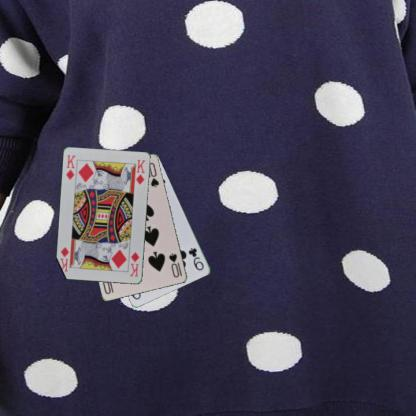10s: (166, 251, 184, 278)
9c: (186, 245, 205, 272)
Kd: (127, 249, 141, 278), (63, 152, 77, 181)
